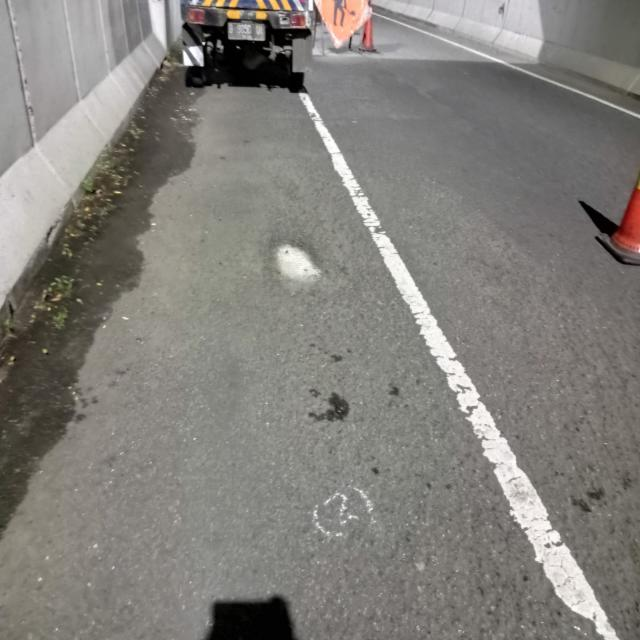Buraco: (266, 234, 332, 300)
